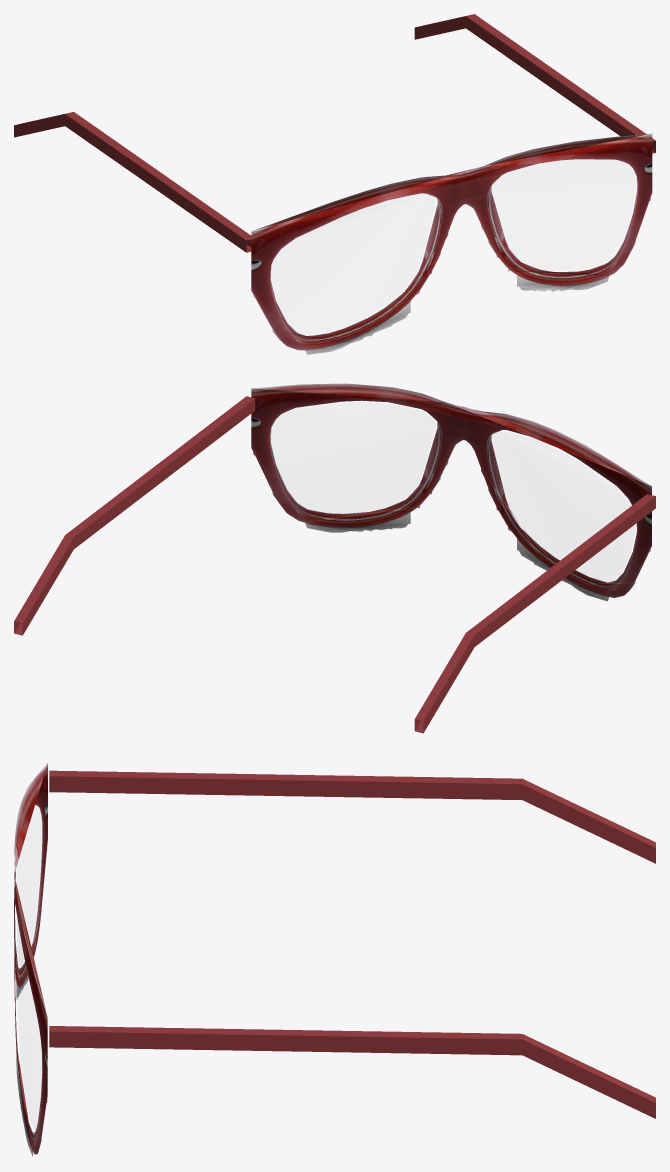
The model's file is gothamstyle-148_red.glb.
The picture shows the model from 3 angles, top to bottom: view 1: azimuth 30°, elevation 25°; view 2: azimuth 150°, elevation 25°; view 3: azimuth 270°, elevation 25°; orthographic projection. The views are drawn at different scales.
Parts seen in each view (by area): view 1: frame_front, temple_viewer_left, temple_viewer_right; view 2: frame_front, temple_viewer_left, temple_viewer_right; view 3: temple_viewer_right, temple_viewer_left, frame_front.
Part boxes in pixels (x1,y1,x2,y2): frame_front: (251, 133, 652, 354); temple_viewer_left: (14, 112, 251, 252); temple_viewer_right: (414, 14, 655, 153); frame_front: (251, 383, 651, 601); temple_viewer_left: (414, 494, 655, 733); temple_viewer_right: (14, 396, 255, 635); temple_viewer_right: (49, 1026, 655, 1118); temple_viewer_left: (49, 770, 655, 863); frame_front: (14, 763, 47, 1156).
Bounding box in the file's own units: 0.1403 × 0.0514 × 0.146.
Materials: 3 (2 with a texture image).
